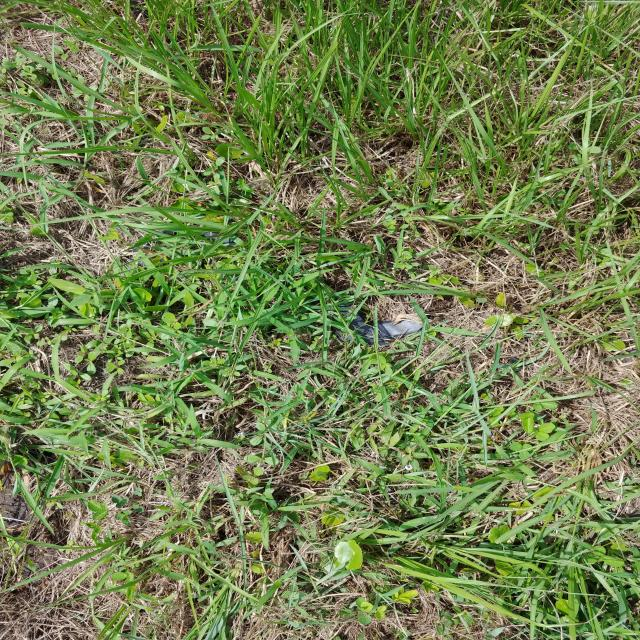litter: (424, 162, 461, 197), (413, 200, 458, 219), (435, 216, 456, 232), (406, 212, 425, 227)
